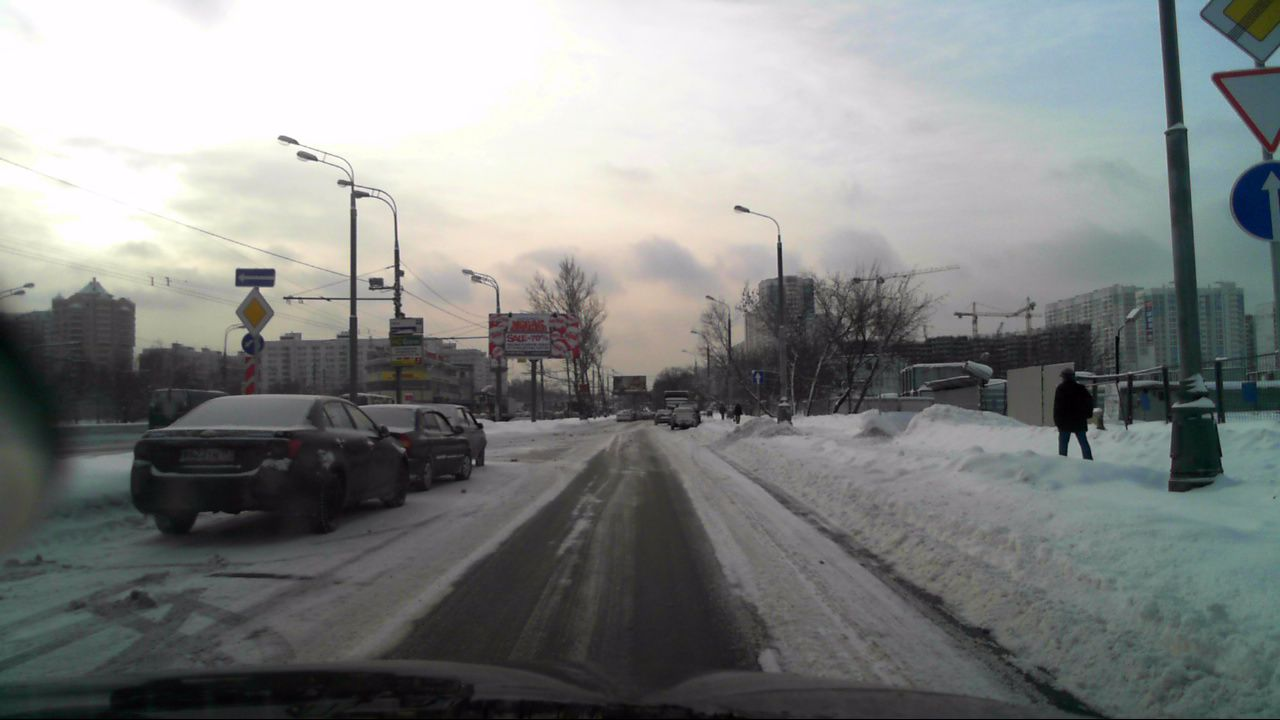One-Way Traffic: (235, 269, 275, 286)
